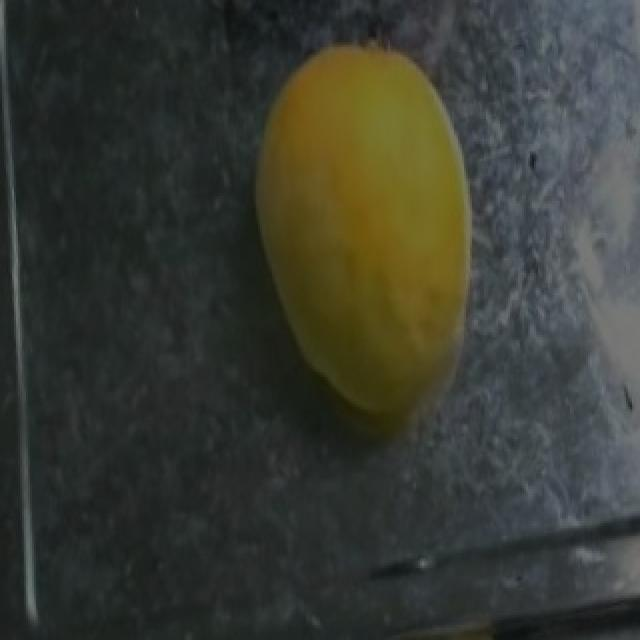fruit: (230, 10, 546, 409)
